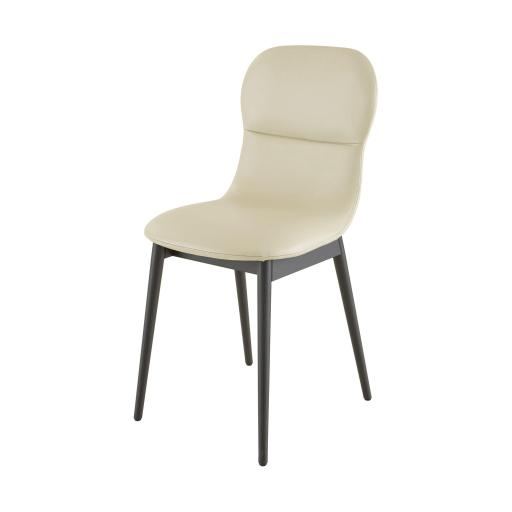chair: (111, 35, 407, 479)
